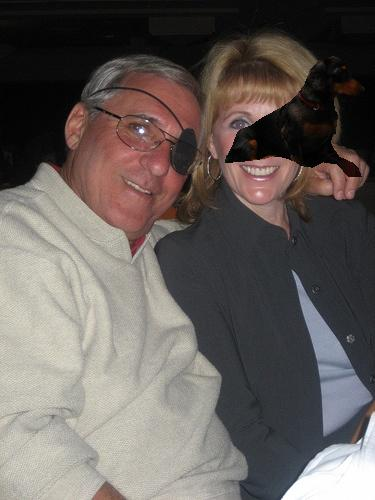tampered: (226, 57, 365, 177)
